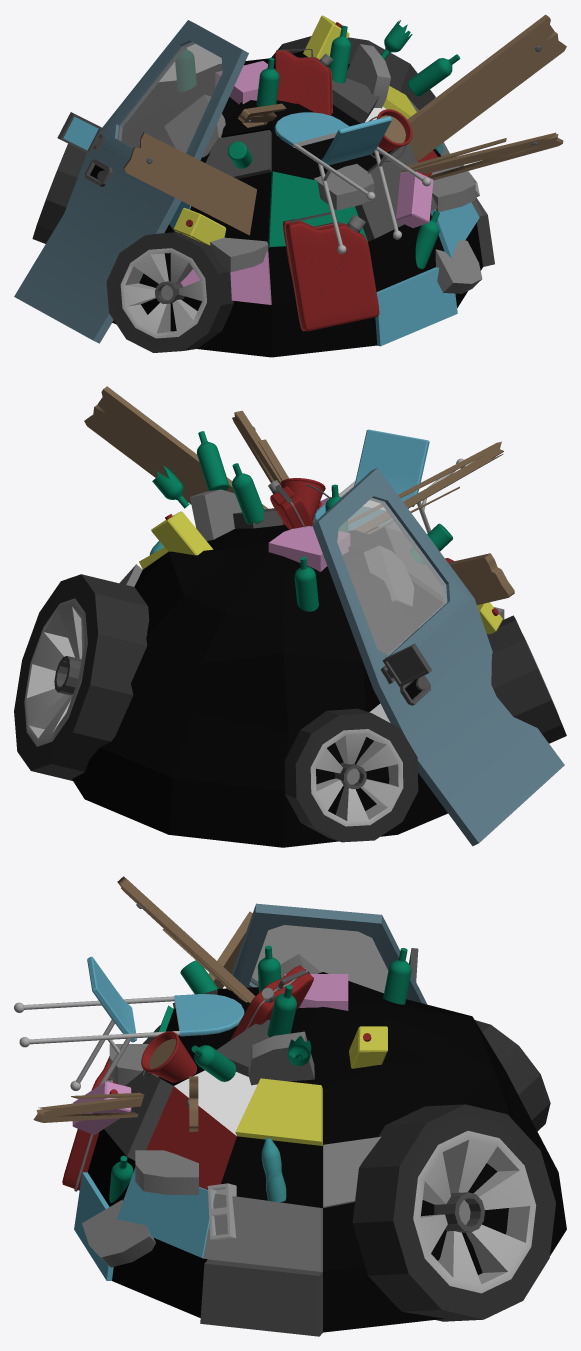
File: tas ordure.fbx
3 views of the same model, one above another, from view 1: azimuth 30°, elevation 25°; view 2: azimuth 150°, elevation 25°; view 3: azimuth 270°, elevation 25° (orthographic). The views are drawn at different scales.
Parts seen in each view (by area): view 1: tas_ordure; view 2: tas_ordure; view 3: tas_ordure.
Part boxes in pixels (x1,y1,x2,y2): tas_ordure: [14, 14, 566, 357]; tas_ordure: [14, 386, 566, 847]; tas_ordure: [14, 876, 566, 1336].
Size of the model in its own units: 1.77 by 0.9733 by 1.6.
